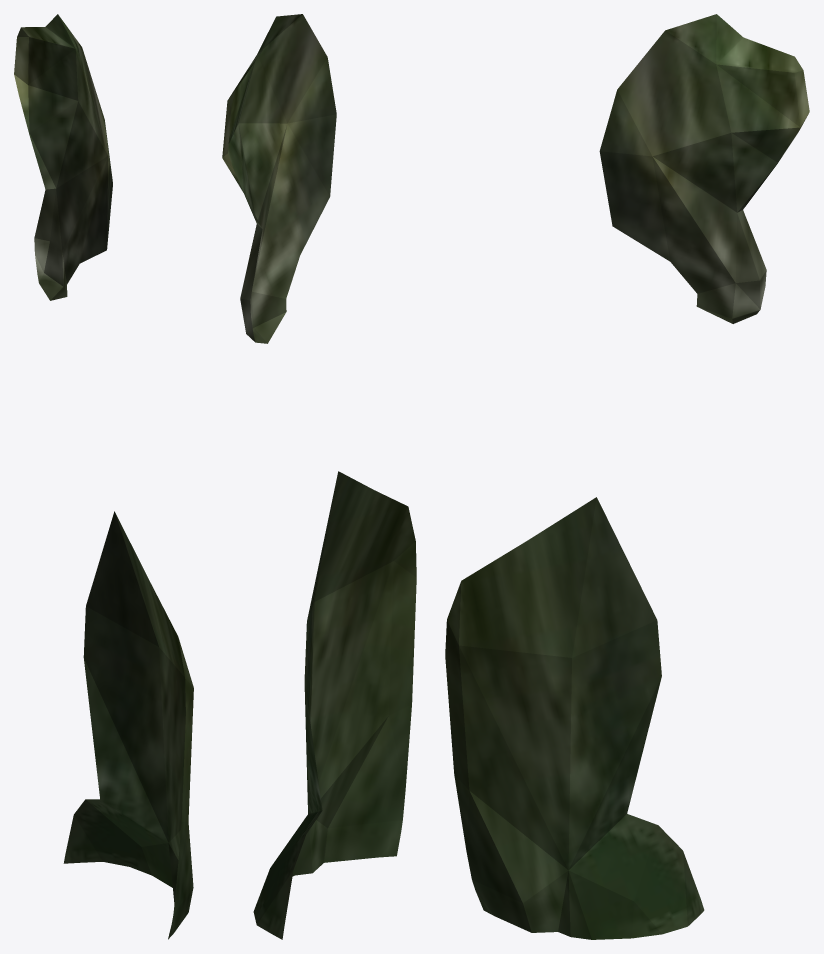
3 views of the same model, side by side, from view 1: azimuth 30°, elevation 25°; view 2: azimuth 150°, elevation 25°; view 3: azimuth 270°, elevation 25° (orthographic). The views are drawn at different scales.
Bounding box in the file's own units: 0.4128 × 5.84 × 2.15.
1 material, 1 textured.
